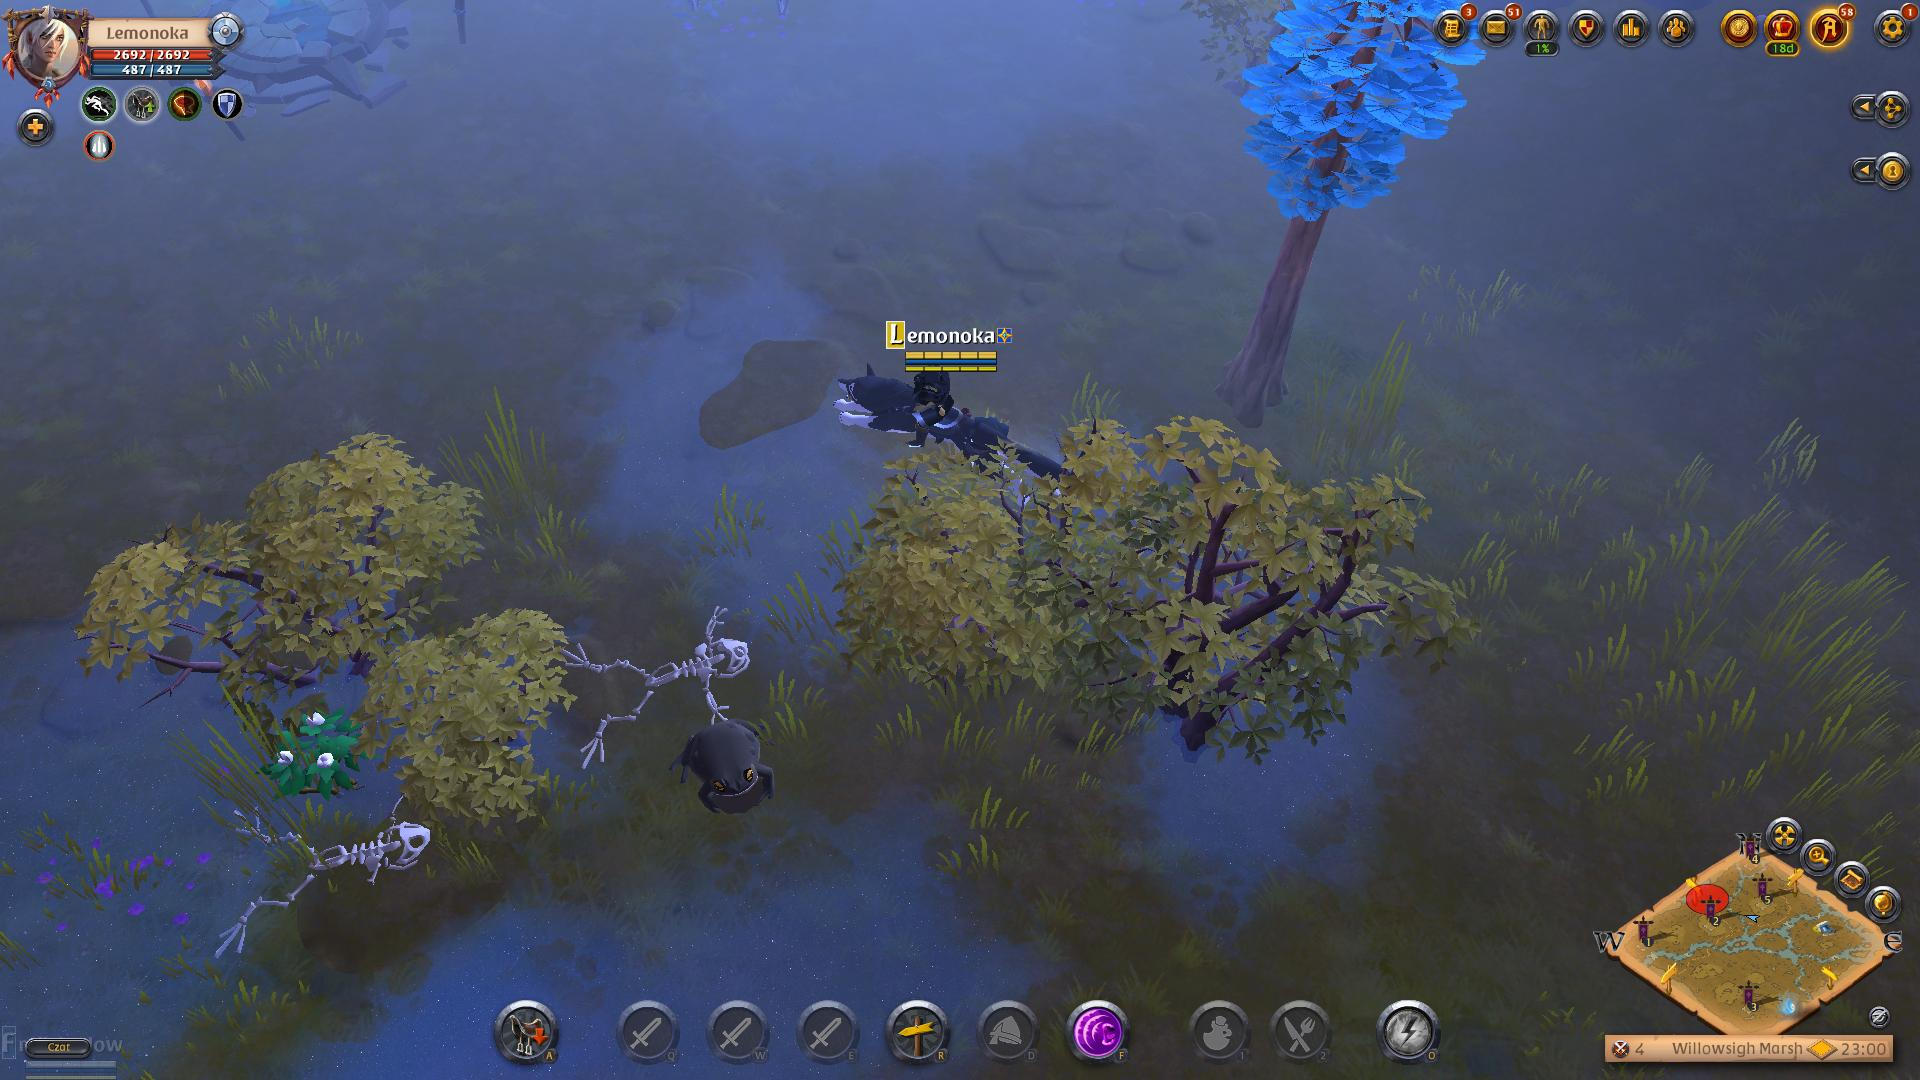fiber tier 3: (266, 705, 364, 798)
